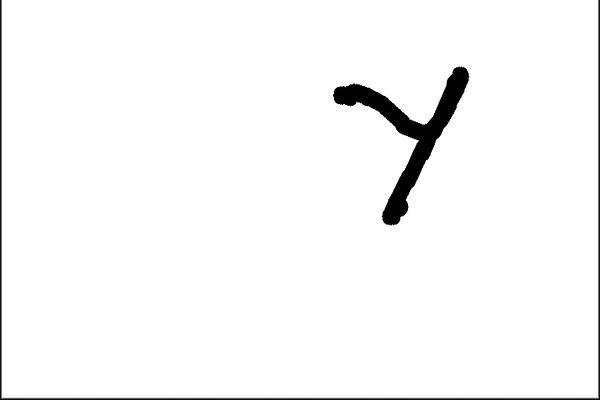Y: (324, 56, 481, 232)
